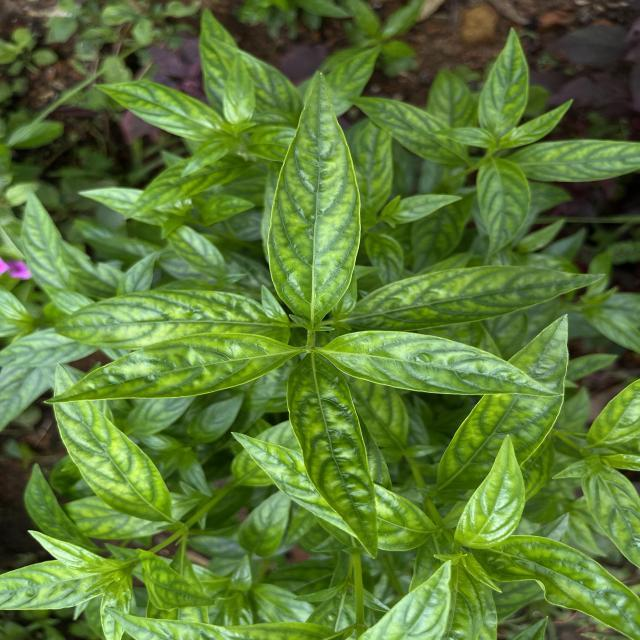Andrographis paniculata: (433, 314, 574, 498), (266, 70, 366, 324), (50, 361, 177, 523), (39, 330, 302, 408), (284, 359, 382, 561), (360, 264, 610, 336), (318, 329, 571, 399), (51, 286, 273, 350), (87, 78, 231, 144), (452, 432, 530, 552), (122, 155, 245, 220), (473, 24, 532, 134), (510, 138, 640, 186), (474, 158, 532, 262), (382, 193, 464, 229)
